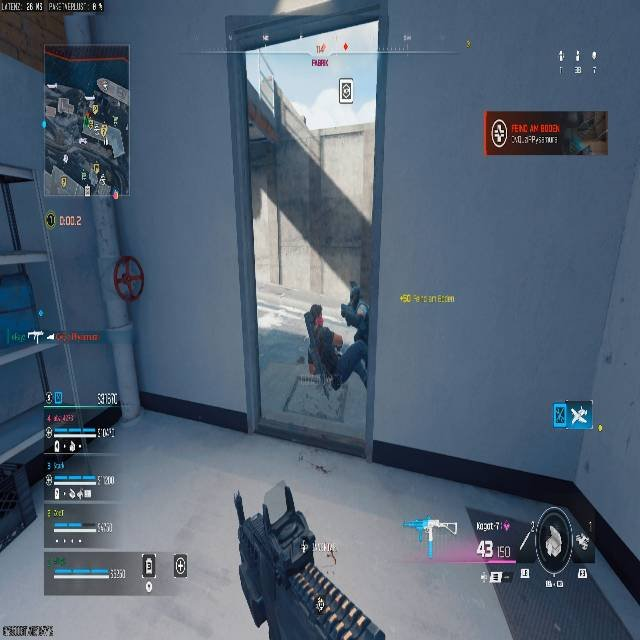player: (331, 285, 369, 392)
